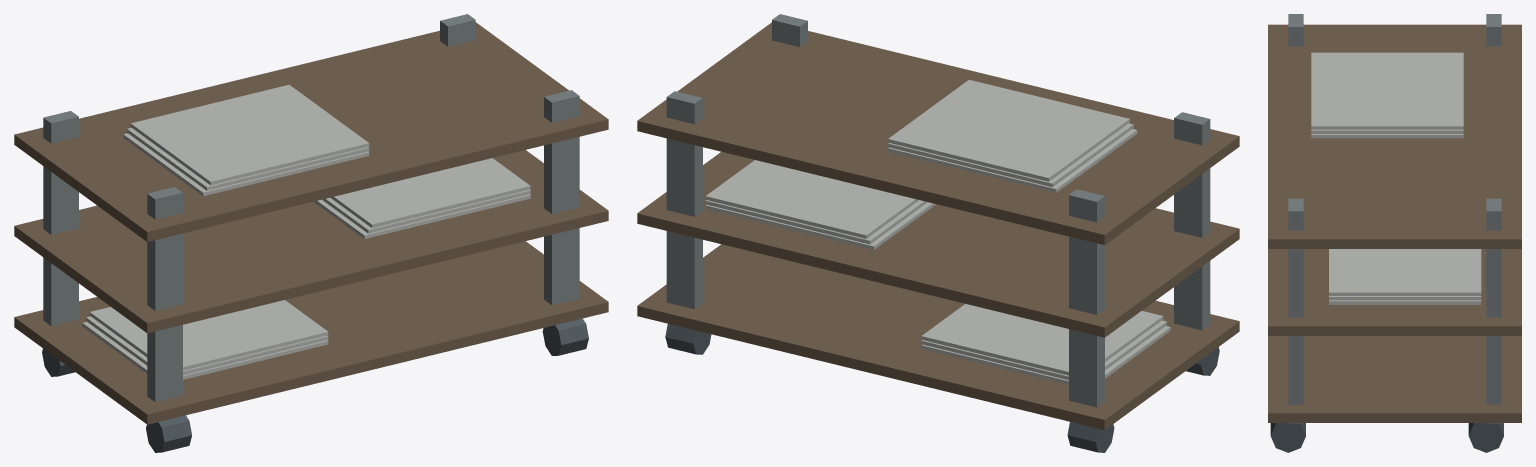
The model's file is paper_cart.glb.
3 renders of one model, left to right at view 1: azimuth 30°, elevation 25°; view 2: azimuth 150°, elevation 25°; view 3: azimuth 270°, elevation 25°, orthographic. The views are drawn at different scales.
Visible parts, largest first — view 1: paper_cart; view 2: paper_cart; view 3: paper_cart.
Boxes of the visible parts, x1,y1,x2,y2 form: paper_cart: (14, 14, 608, 452); paper_cart: (637, 14, 1239, 452); paper_cart: (1268, 14, 1521, 452).
Size of the model in its own units: 2 by 1.05 by 1.
